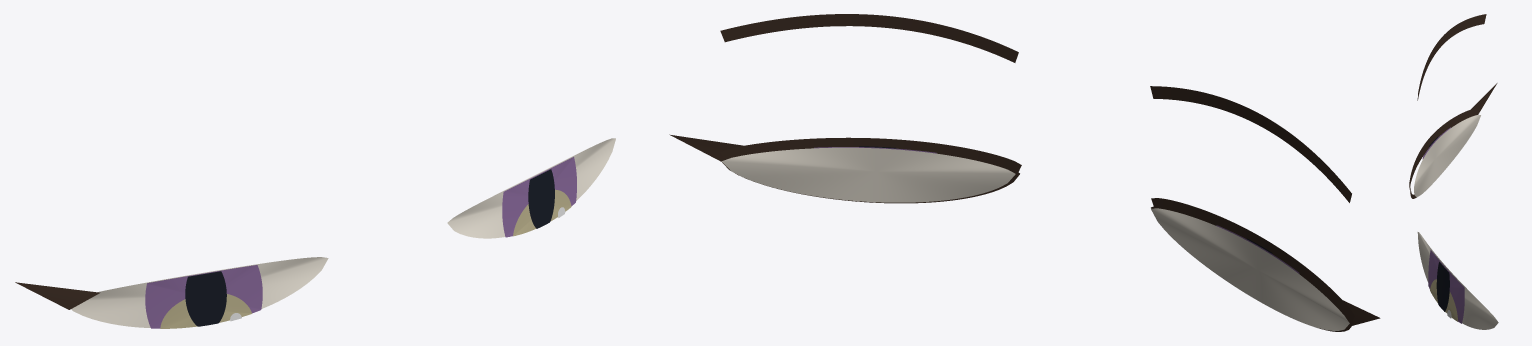
The picture shows the model from 3 angles, left to right: view 1: azimuth 30°, elevation 25°; view 2: azimuth 150°, elevation 25°; view 3: azimuth 270°, elevation 25°; orthographic projection. The views are drawn at different scales.
Visible parts, largest first — view 1: Eye_White_-1, Eye_White_1, Eye_Iris_-1, Eye_Pupil_-1, Eye_Iris_1, Eye_Pupil_1, Eye_Iris_Light_-1, Eye_LashWing_-1, Eye_Iris_Light_1; view 2: Eye_White_1, Eye_White_-1, Eyebrow_1, Eye_UpperLid_1, Eyebrow_-1, Eye_UpperLid_-1, Eye_LashWing_1; view 3: Eye_White_-1, Eye_White_1, Eye_Iris_1, Eyebrow_-1, Eye_UpperLid_-1, Eye_Pupil_1, Eye_Iris_Light_1, Eye_LashWing_-1.
Boxes of the visible parts, x1,y1,x2,y2 form: Eye_White_-1: (71,257,328,327); Eye_White_1: (447,138,615,238); Eye_Iris_-1: (145,265,262,328); Eye_Pupil_-1: (185,271,226,326); Eye_Iris_1: (502,157,576,237); Eye_Pupil_1: (528,169,554,228); Eye_Iris_Light_-1: (160,294,251,328); Eye_LashWing_-1: (15,282,100,309); Eye_Iris_Light_1: (513,189,571,236); Eye_White_1: (721,147,1015,202); Eye_White_-1: (1151,208,1349,330); Eyebrow_1: (720,14,1018,62); Eye_UpperLid_1: (720,137,1021,172); Eyebrow_-1: (1150,86,1351,202); Eye_UpperLid_-1: (1151,198,1354,321); Eye_LashWing_1: (669,134,743,161); Eye_White_-1: (1414,115,1480,196); Eye_White_1: (1417,232,1498,329); Eye_Iris_1: (1428,250,1464,323); Eyebrow_-1: (1417,14,1486,100); Eye_UpperLid_-1: (1409,108,1478,189); Eye_Pupil_1: (1436,262,1449,311); Eye_Iris_Light_1: (1430,279,1457,321); Eye_LashWing_-1: (1471,83,1497,114).
Bounding box in the file's own units: 0.4435 × 0.1262 × 0.0807.
